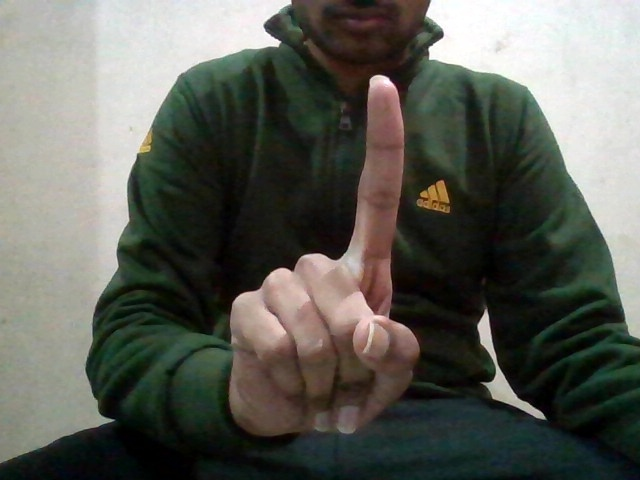D: (223, 71, 430, 436)
